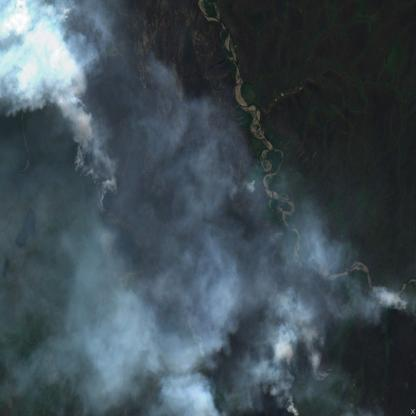fire: (52, 0, 122, 211), (255, 300, 329, 416), (385, 280, 415, 317)
